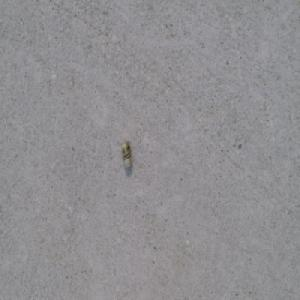BoltNutSet: (122, 140, 133, 167)
